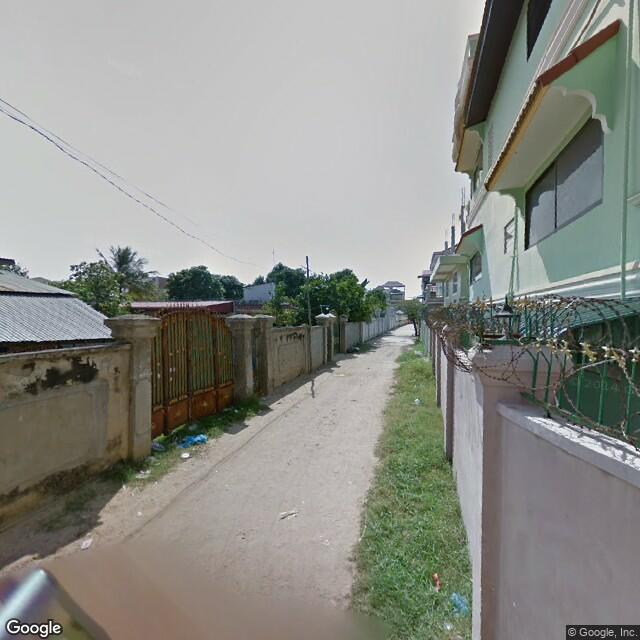litter: (263, 496, 314, 528), (447, 585, 468, 619), (179, 430, 209, 452), (428, 565, 443, 598), (75, 528, 93, 553), (409, 392, 426, 410)
